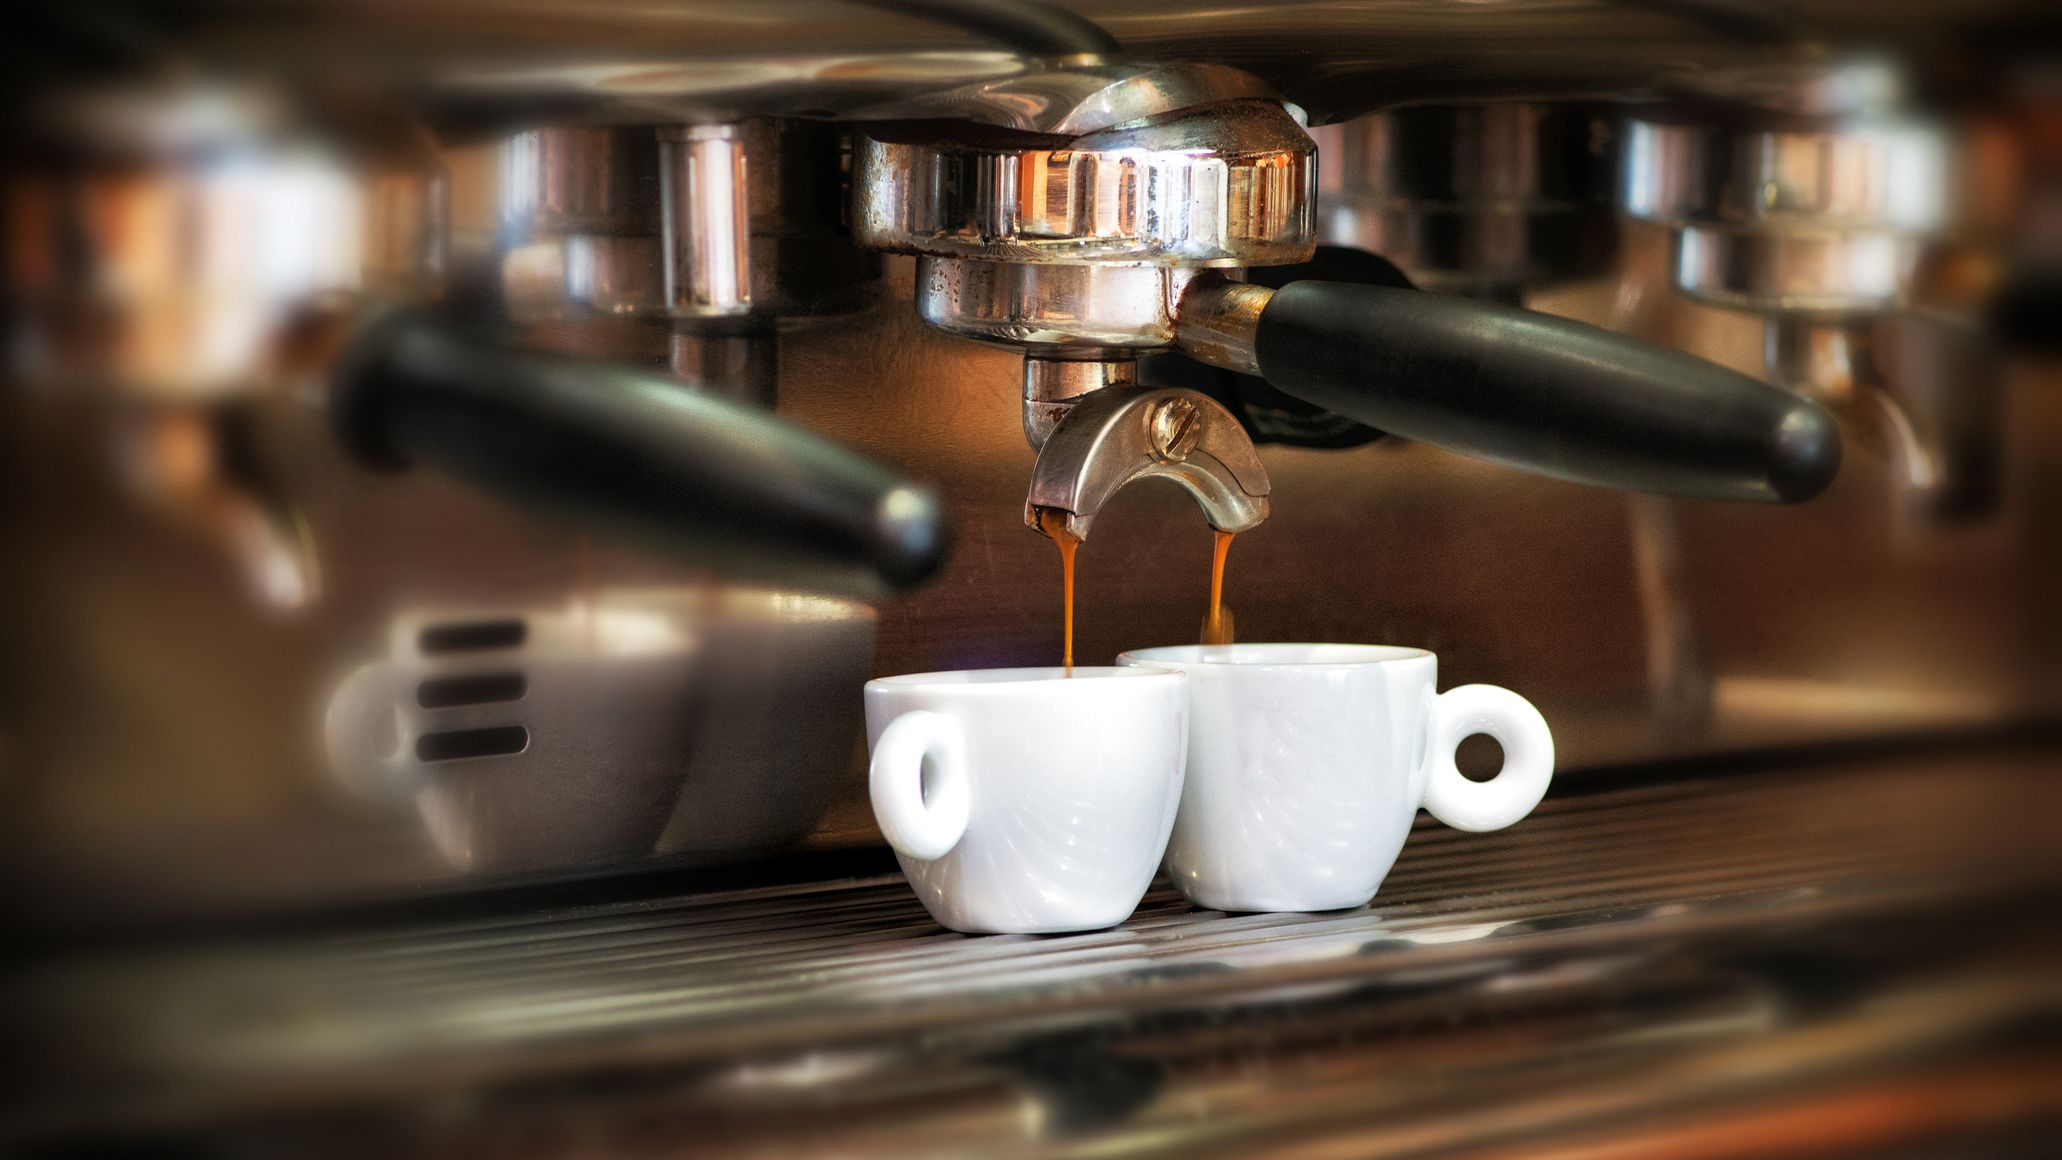cup: (861, 659, 1198, 936)
